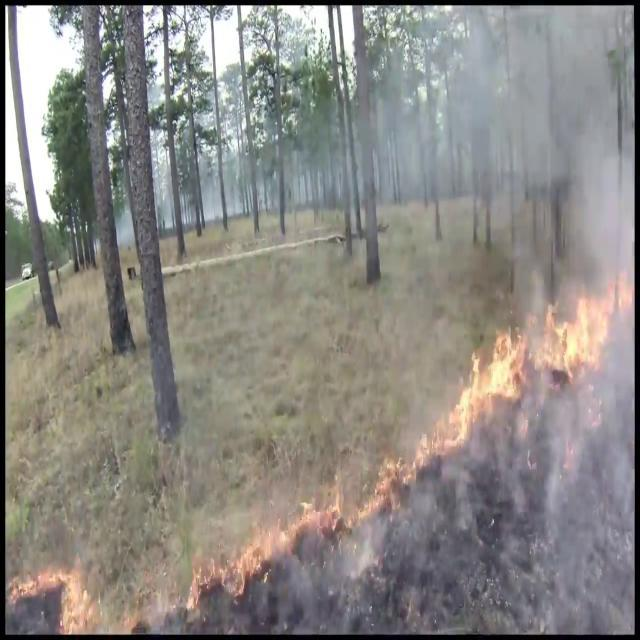Fire: (466, 264, 630, 434), (356, 404, 462, 516), (232, 489, 334, 587)
Smoke: (371, 0, 640, 250)
